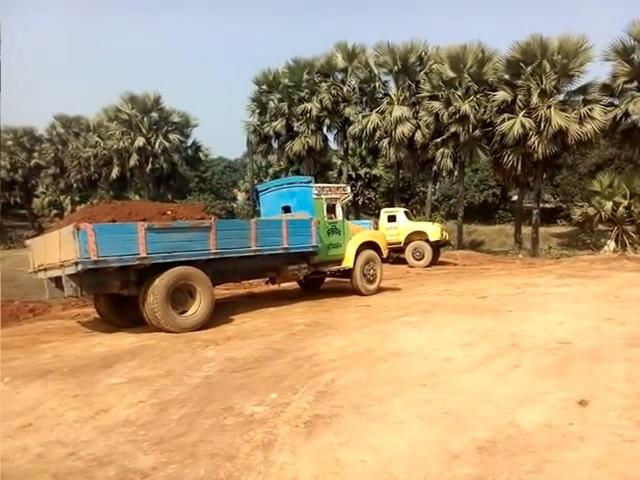truck: (23, 171, 386, 331), (380, 198, 453, 271)
